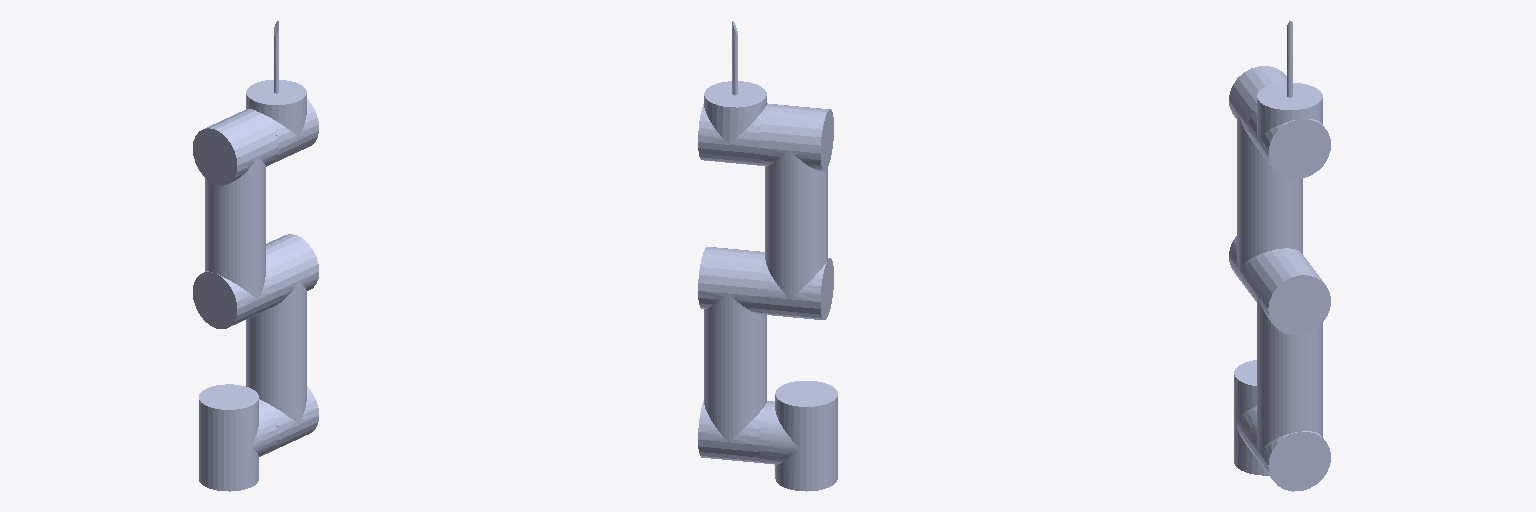
The robot description file, URDF, robot "ciara4":
<?xml version="1.0" encoding="utf-8"?>
<!-- This URDF was automatically created by SolidWorks to URDF Exporter! Originally created by Stephen Brawner (brawner@gmail.com) 
     Commit Version: 1.6.0-4-g7f85cfe  Build Version: 1.6.7995.38578
     For more information, please see http://wiki.ros.org/sw_urdf_exporter -->
<robot
  name="ciara4">
  <link
    name="base_link">
    <inertial>
      <origin
        xyz="-6.7028E-35 0.035279 4.0582E-19"
        rpy="0 0 0" />
      <mass
        value="0.39708" />
      <inertia
        ixx="0.00039044"
        ixy="-1.1957E-36"
        ixz="-5.3877E-37"
        iyy="0.00032938"
        iyz="-1.406E-20"
        izz="0.00039044" />
    </inertial>
    <visual>
      <origin
        xyz="0 0 0"
        rpy="0 0 0" />
      <geometry>
        <mesh
          filename="package://ciara4/meshes/base_link.STL" />
      </geometry>
      <material
        name="">
        <color
          rgba="0.79216 0.81961 0.93333 1" />
      </material>
    </visual>
    <collision>
      <origin
        xyz="0 0 0"
        rpy="0 0 0" />
      <geometry>
        <mesh
          filename="package://ciara4/meshes/base_link.STL" />
      </geometry>
    </collision>
  </link>
  <link
    name="link_0">
    <inertial>
      <origin
        xyz="0.0042585 0.00134 0.091053"
        rpy="0 0 0" />
      <mass
        value="0.32131" />
      <inertia
        ixx="0.00028822"
        ixy="-7.887E-06"
        ixz="7.2737E-08"
        iyy="0.0003108"
        iyz="2.2912E-08"
        izz="0.00018994" />
    </inertial>
    <visual>
      <origin
        xyz="0 0 0"
        rpy="0 0 0" />
      <geometry>
        <mesh
          filename="package://ciara4/meshes/link_0.STL" />
      </geometry>
      <material
        name="">
        <color
          rgba="0.79216 0.81961 0.93333 1" />
      </material>
    </visual>
    <collision>
      <origin
        xyz="0 0 0"
        rpy="0 0 0" />
      <geometry>
        <mesh
          filename="package://ciara4/meshes/link_0.STL" />
      </geometry>
    </collision>
  </link>
  <joint
    name="joint_0"
    type="revolute">
    <origin
      xyz="0 0 0.041"
      rpy="0 0 0" />
    <parent
      link="base_link" />
    <child
      link="link_0" />
    <axis
      xyz="0 0 1" />
    <limit
      lower="-3.1416"
      upper="3.1416"
      effort="3.9227"
      velocity="3" />
  </joint>
  <link
    name="link_1">
    <inertial>
      <origin
        xyz="-2.8772E-17 0.081 0.071963"
        rpy="0 0 0" />
      <mass
        value="0.70536" />
      <inertia
        ixx="0.0030879"
        ixy="3.7216E-10"
        ixz="4.1741E-10"
        iyy="0.0003745"
        iyz="7.5468E-20"
        izz="0.0030672" />
    </inertial>
    <visual>
      <origin
        xyz="0 0 0"
        rpy="0 0 0" />
      <geometry>
        <mesh
          filename="package://ciara4/meshes/link_1.STL" />
      </geometry>
      <material
        name="">
        <color
          rgba="0.79216 0.81961 0.93333 1" />
      </material>
    </visual>
    <collision>
      <origin
        xyz="0 0 0"
        rpy="0 0 0" />
      <geometry>
        <mesh
          filename="package://ciara4/meshes/link_1.STL" />
      </geometry>
    </collision>
  </link>
  <joint
    name="joint_1"
    type="revolute">
    <origin
      xyz="0 0 0.091"
      rpy="1.5708 0 1.8757" />
    <parent
      link="link_0" />
    <child
      link="link_1" />
    <axis
      xyz="0 0 1" />
    <limit
      lower="-2.0944"
      upper="2.0944"
      effort="3.9227"
      velocity="3" />
  </joint>
  <link
    name="link_2">
    <inertial>
      <origin
        xyz="-4.7271E-17 0.081 0.062032"
        rpy="0 0 0" />
      <mass
        value="0.70379" />
      <inertia
        ixx="0.003076"
        ixy="3.7216E-10"
        ixz="4.1741E-10"
        iyy="0.00037297"
        iyz="-1.4593E-20"
        izz="0.0030569" />
    </inertial>
    <visual>
      <origin
        xyz="0 0 0"
        rpy="0 0 0" />
      <geometry>
        <mesh
          filename="package://ciara4/meshes/link_2.STL" />
      </geometry>
      <material
        name="">
        <color
          rgba="0.79216 0.81961 0.93333 1" />
      </material>
    </visual>
    <collision>
      <origin
        xyz="0 0 0"
        rpy="0 0 0" />
      <geometry>
        <mesh
          filename="package://ciara4/meshes/link_2.STL" />
      </geometry>
    </collision>
  </link>
  <joint
    name="joint_2"
    type="revolute">
    <origin
      xyz="0 0.162 0.072"
      rpy="-3.1416 0 -3.1416" />
    <parent
      link="link_1" />
    <child
      link="link_2" />
    <axis
      xyz="0 0 1" />
    <limit
      lower="-2.4435"
      upper="2.4435"
      effort="1.9613"
      velocity="3" />
  </joint>
  <link
    name="end">
    <inertial>
      <origin
        xyz="1.5163E-08 0.0068679 0.061944"
        rpy="0 0 0" />
      <mass
        value="0.23395" />
      <inertia
        ixx="0.00016575"
        ixy="-1.5321E-10"
        ixz="-1.4129E-10"
        iyy="0.00012923"
        iyz="-1.0828E-07"
        izz="0.00015541" />
    </inertial>
    <visual>
      <origin
        xyz="0 0 0"
        rpy="0 0 0" />
      <geometry>
        <mesh
          filename="package://ciara4/meshes/end.STL" />
      </geometry>
      <material
        name="">
        <color
          rgba="0.79216 0.81961 0.93333 1" />
      </material>
    </visual>
    <collision>
      <origin
        xyz="0 0 0"
        rpy="0 0 0" />
      <geometry>
        <mesh
          filename="package://ciara4/meshes/end.STL" />
      </geometry>
    </collision>
  </link>
  <joint
    name="joint_3"
    type="revolute">
    <origin
      xyz="0 0.162 0.062"
      rpy="-3.1416 0 3.1416" />
    <parent
      link="link_2" />
    <child
      link="end" />
    <axis
      xyz="0 0 1" />
    <limit
      lower="-1.5708"
      upper="2.618"
      effort="0.98067"
      velocity="3" />
  </joint>
</robot>

--- Render facts (derived) ---
3 views of the same robot in one strip: view 1: azimuth 30°, elevation 25°; view 2: azimuth 150°, elevation 25°; view 3: azimuth 270°, elevation 25° (orthographic).
Model ciara4 with 5 links and 4 joints (4 revolute), rooted at base_link, posed every joint at zero.
Visible links, largest first — view 1: link_2, link_1, link_0, end; view 2: link_2, link_1, link_0, end; view 3: link_1, link_2, end, link_0.
Link boxes in pixels (<box>): link_2: <box>193,109,277,328</box>; link_1: <box>246,234,318,452</box>; link_0: <box>199,384,277,491</box>; end: <box>246,21,318,164</box>; link_2: <box>759,104,833,319</box>; link_1: <box>698,247,767,462</box>; link_0: <box>759,381,837,491</box>; end: <box>698,21,767,165</box>; link_1: <box>1249,249,1330,491</box>; link_2: <box>1229,66,1303,295</box>; end: <box>1249,21,1330,178</box>; link_0: <box>1234,360,1268,475</box>.
Bounding box of the posed robot: 0.1384 × 0.0964 × 0.491 m (x, y, z).
4 mesh visuals loaded from 5 distinct referenced files (4 binary STL); not drawn: 1 (reference not matched to a file when rendering).
